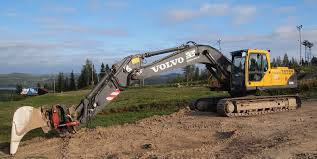excavator: (9, 39, 304, 154)
